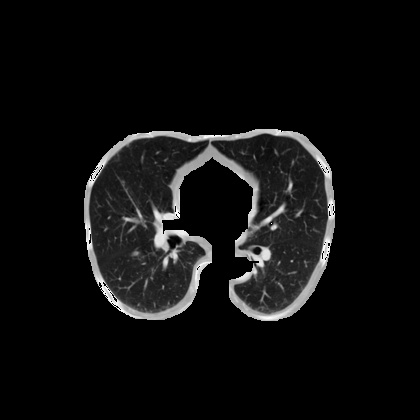PN: (131, 249, 139, 257)
